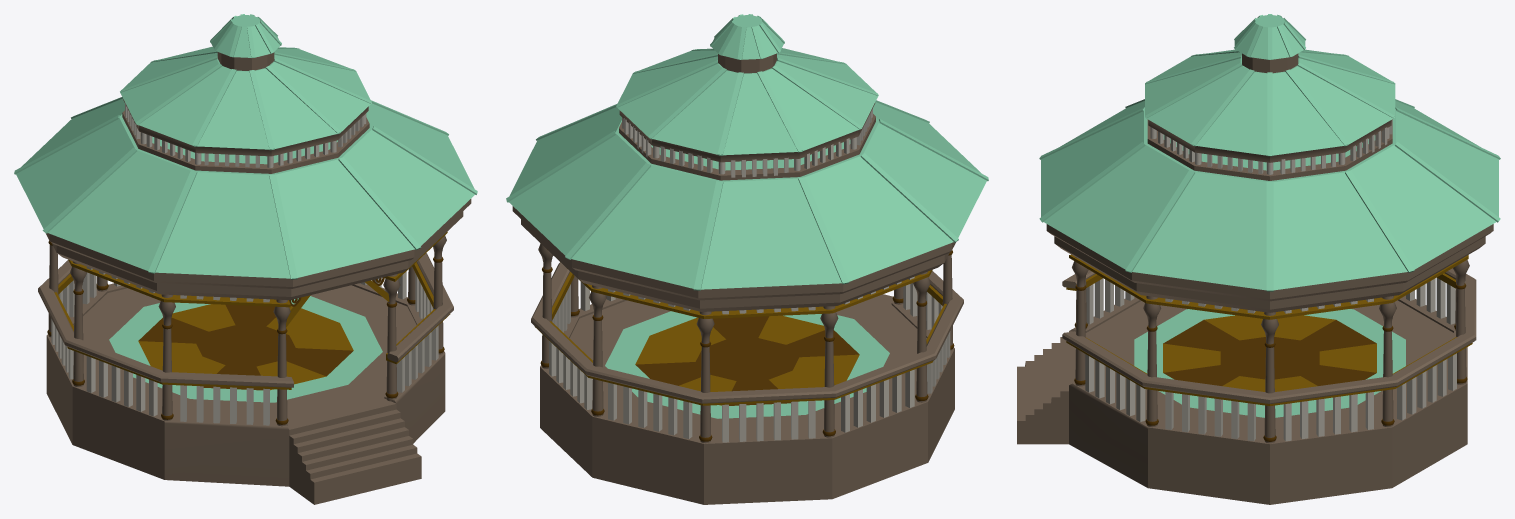
File: Gazebo.fbx
The picture shows the model from 3 angles, left to right: view 1: azimuth 30°, elevation 25°; view 2: azimuth 150°, elevation 25°; view 3: azimuth 270°, elevation 25°; orthographic projection. The views are drawn at different scales.
Visible parts, largest first — view 1: Gazebo:Gazebo2:Gazebo_Top, Gazebo:polySurface2, Gazebo:polySurface1; view 2: Gazebo:Gazebo2:Gazebo_Top, Gazebo:polySurface2; view 3: Gazebo:Gazebo2:Gazebo_Top, Gazebo:polySurface2, Gazebo:polySurface1.
Part boxes in pixels (x1,y1,x2,y2): Gazebo:Gazebo2:Gazebo_Top: [14, 14, 477, 327]; Gazebo:polySurface2: [38, 235, 453, 486]; Gazebo:polySurface1: [289, 404, 421, 504]; Gazebo:Gazebo2:Gazebo_Top: [506, 14, 988, 318]; Gazebo:polySurface2: [531, 243, 963, 504]; Gazebo:Gazebo2:Gazebo_Top: [1039, 14, 1500, 319]; Gazebo:polySurface2: [1062, 257, 1476, 504]; Gazebo:polySurface1: [1017, 337, 1068, 444].
Bounding box in the file's own units: 1395 × 1263 × 1397.
